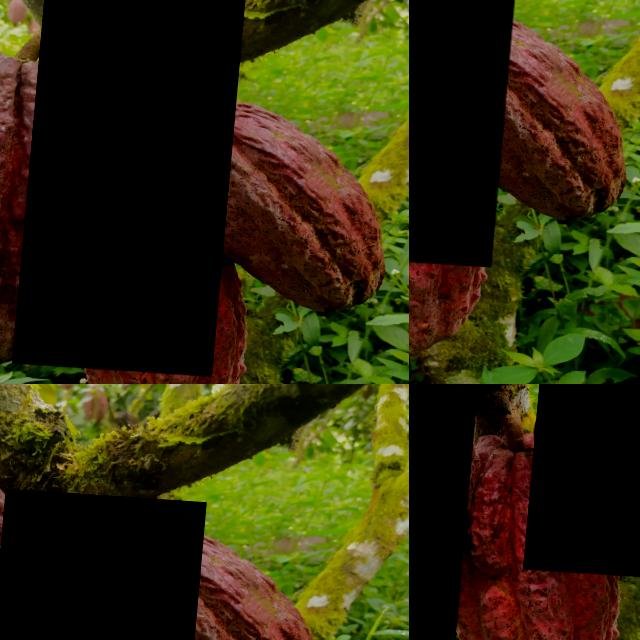Fitoftora: (0, 486, 209, 640)
Monilia: (20, 0, 252, 371), (409, 0, 520, 261)
Sana: (438, 424, 640, 640), (530, 384, 640, 576), (409, 384, 486, 640)
